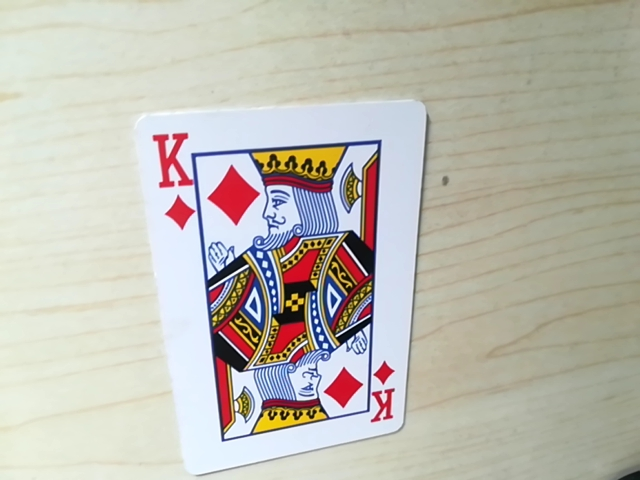fk k: (145, 127, 193, 174), (363, 373, 402, 426)
